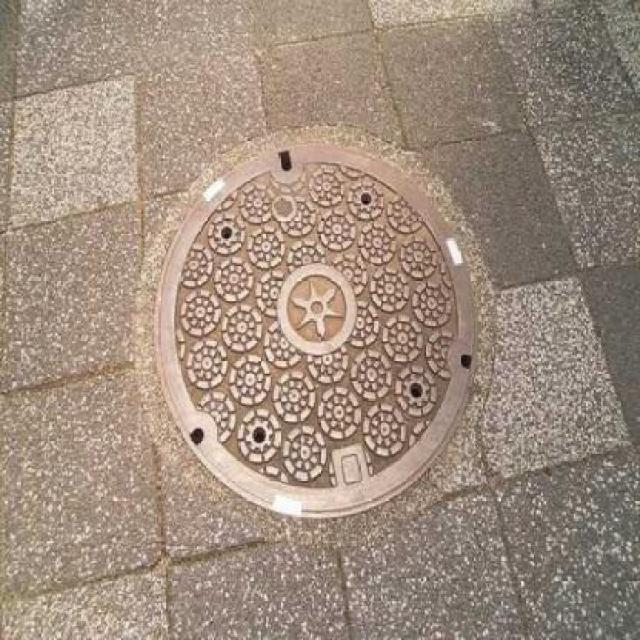Manhole: (123, 109, 500, 532)
